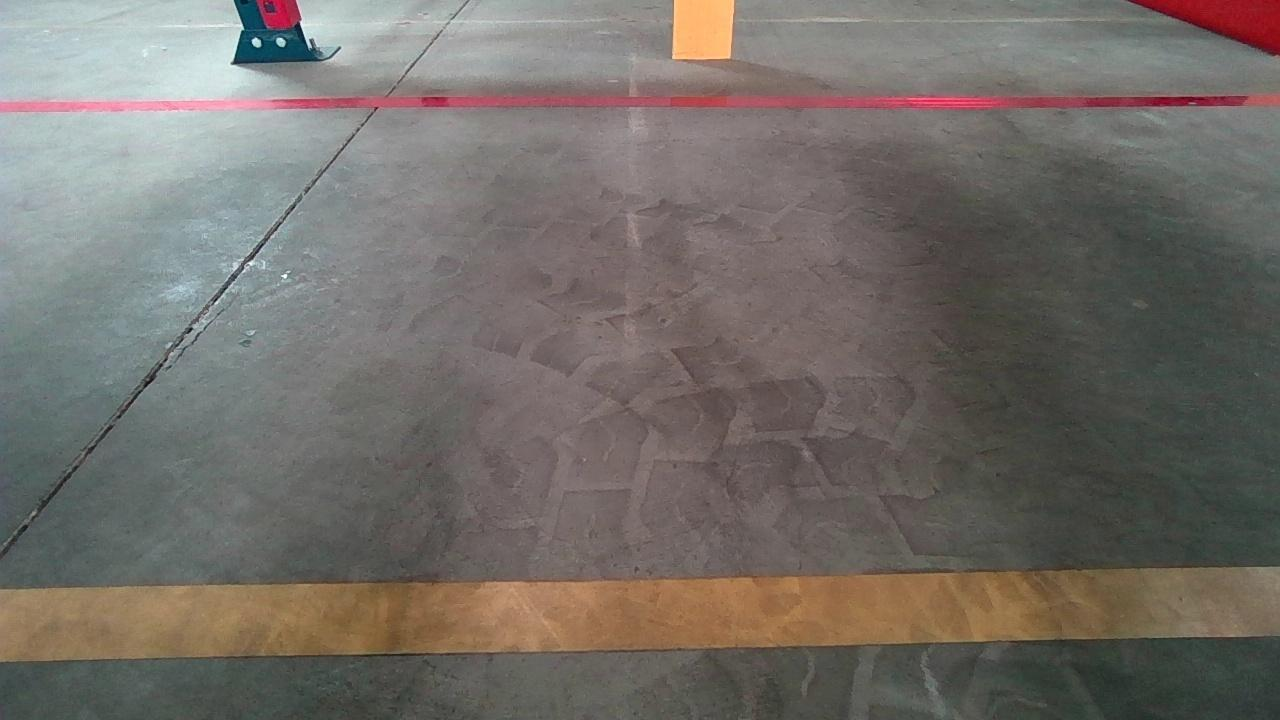yellow_line: (0, 562, 1275, 666)
